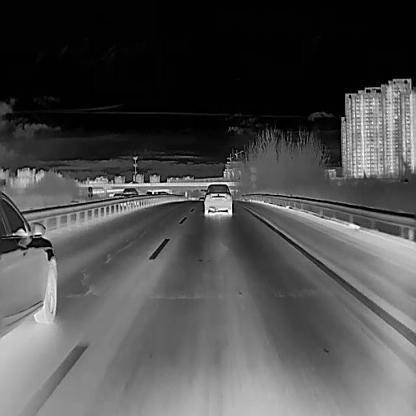car: (0, 189, 57, 329), (204, 184, 232, 215), (120, 187, 139, 197)
